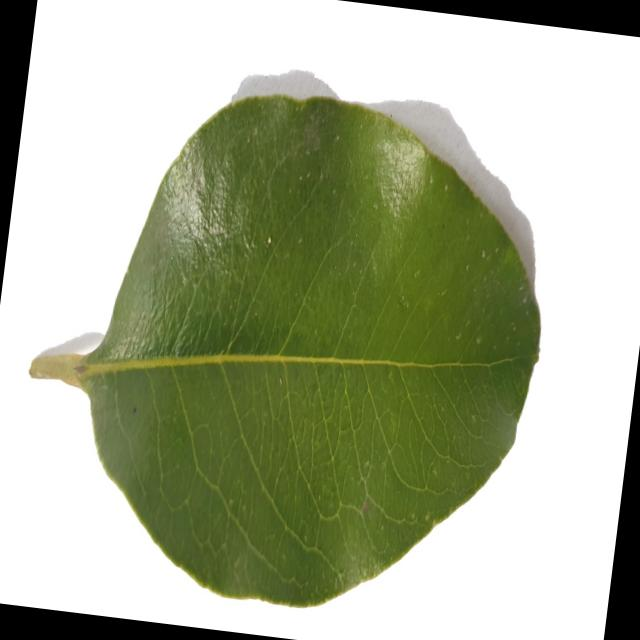Medicinal-Sandalwood: (4, 65, 566, 633)
